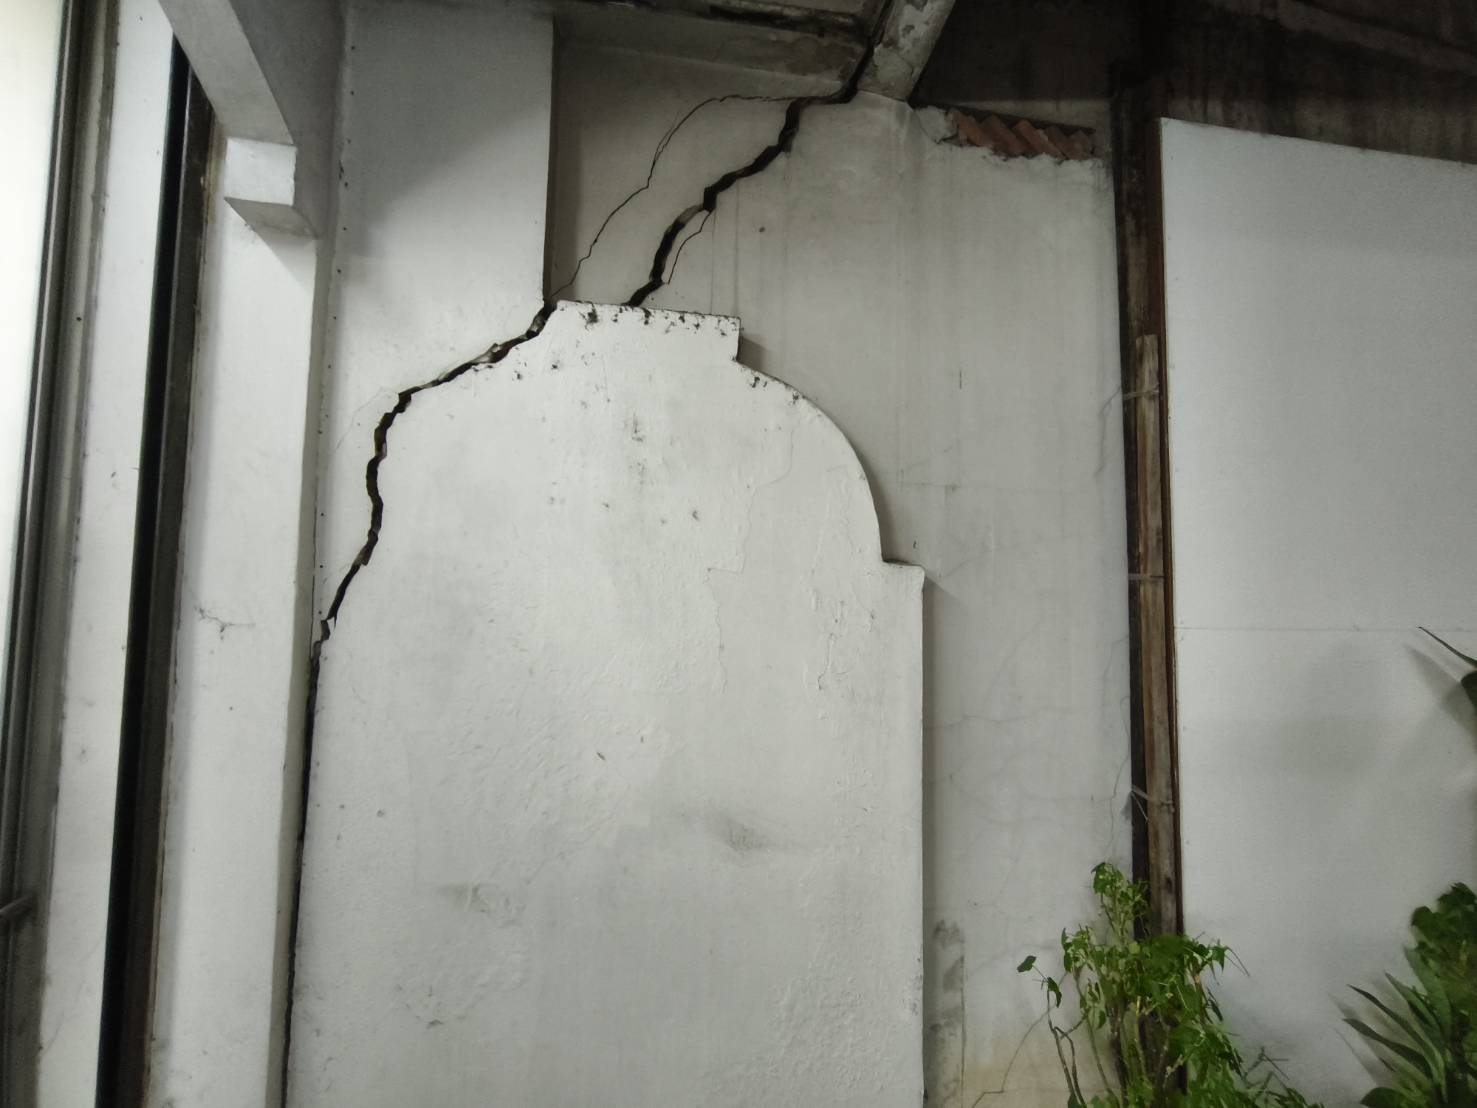High: (287, 73, 881, 1091)
